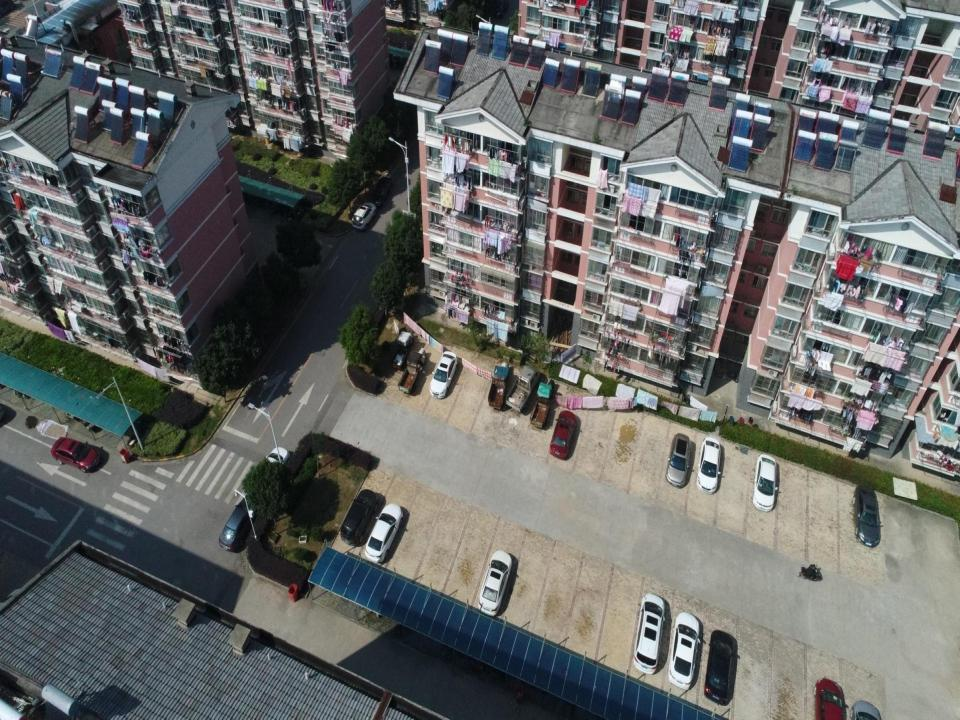car: (633, 593, 665, 675), (668, 611, 700, 690), (704, 630, 735, 706), (218, 494, 258, 552), (365, 504, 403, 564), (478, 550, 512, 616), (340, 489, 378, 546), (852, 485, 881, 548), (50, 437, 100, 473), (752, 454, 778, 511), (666, 433, 691, 489), (696, 438, 721, 494), (429, 351, 458, 398), (813, 678, 846, 719), (550, 410, 576, 460), (257, 447, 290, 486), (352, 202, 377, 231), (370, 176, 393, 207), (850, 700, 881, 719)
truck: (505, 365, 541, 413), (398, 350, 424, 394)
